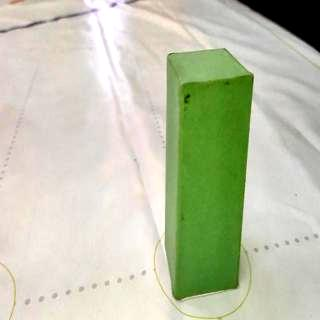greenbox: (165, 47, 255, 300)
